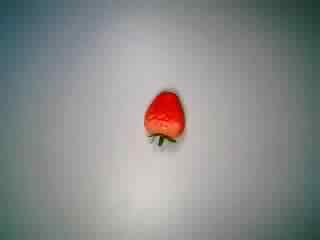strawberry: (129, 83, 197, 147)
